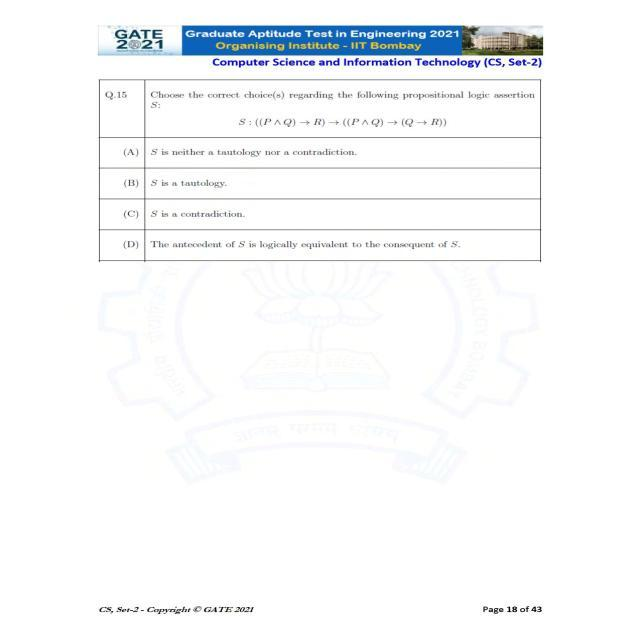Answer_Block: (100, 138, 538, 262)
Question_Answer_Block: (100, 80, 538, 262)
Question_Block: (100, 80, 538, 139)
Question_Paper_Area: (100, 80, 538, 262)
